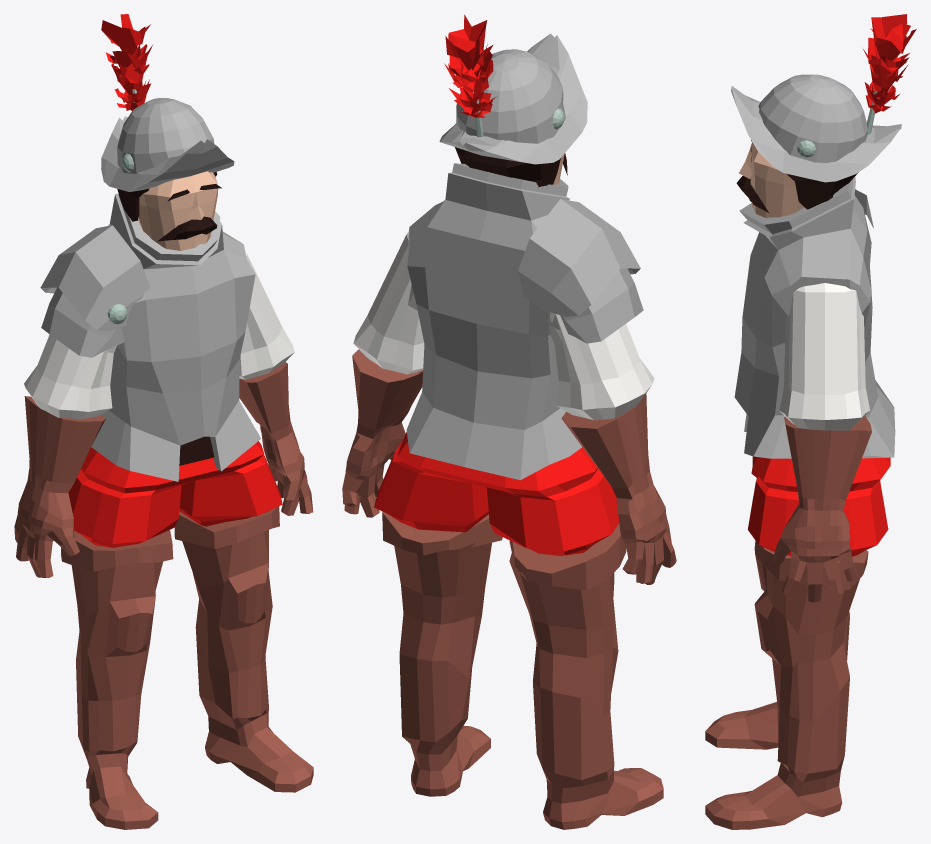
Rendered from Soldado solo.fbx.
3 renders of one model, left to right at view 1: azimuth 30°, elevation 25°; view 2: azimuth 150°, elevation 25°; view 3: azimuth 270°, elevation 25°, orthographic. The views are drawn at different scales.
Visible parts, largest first — view 1: Cube.045; view 2: Cube.045; view 3: Cube.045.
Boxes of the visible parts, <box> form: Cube.045: <box>14,14,313,829</box>; Cube.045: <box>342,14,676,829</box>; Cube.045: <box>705,14,916,829</box>.
Size of the model in its own units: 696 by 1757 by 447.
